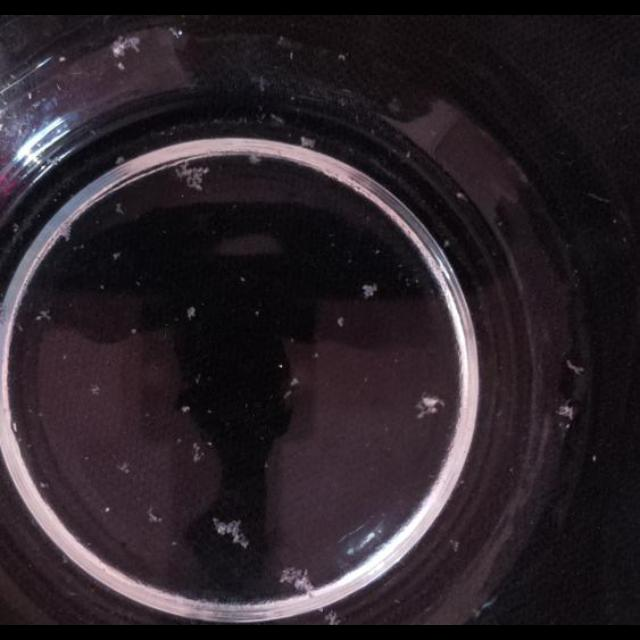Fibre: (278, 566, 316, 596), (212, 518, 250, 548), (174, 161, 210, 191), (112, 34, 142, 60), (191, 442, 205, 463), (325, 610, 341, 624), (35, 308, 51, 322), (170, 26, 184, 40), (300, 136, 316, 148), (248, 152, 262, 164)
microbeads: (414, 393, 444, 419), (556, 402, 576, 422), (566, 358, 586, 376), (147, 507, 163, 525), (361, 283, 377, 299), (387, 98, 401, 112), (91, 384, 101, 396), (115, 203, 125, 215), (186, 306, 196, 318), (290, 377, 300, 388), (456, 192, 466, 202), (181, 404, 191, 414), (337, 316, 345, 328), (115, 157, 125, 166), (442, 239, 450, 249), (193, 374, 201, 384), (11, 223, 19, 233), (338, 53, 347, 61), (40, 481, 49, 489), (116, 61, 124, 70), (404, 149, 411, 159), (113, 252, 121, 260), (59, 54, 67, 61), (240, 276, 246, 284), (313, 351, 319, 359), (591, 454, 597, 462), (104, 506, 110, 514), (255, 310, 261, 316), (130, 328, 136, 334), (613, 218, 619, 224)
